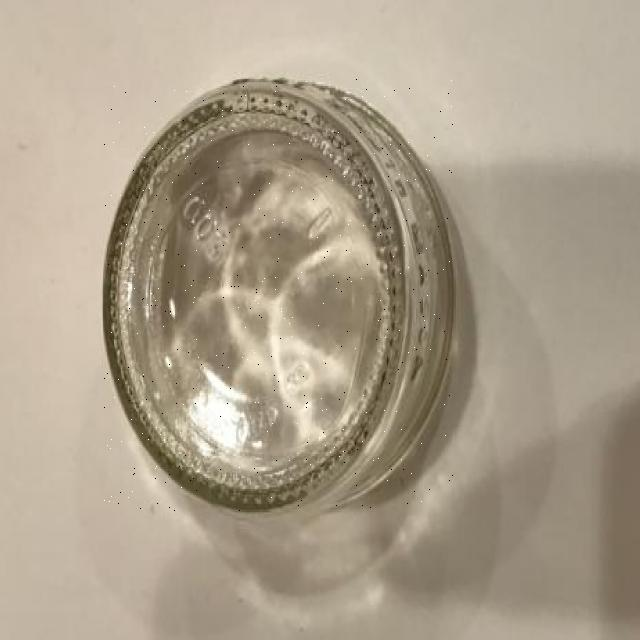glass: (104, 79, 455, 511)
